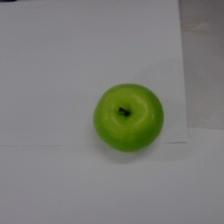green: (93, 82, 165, 152)
